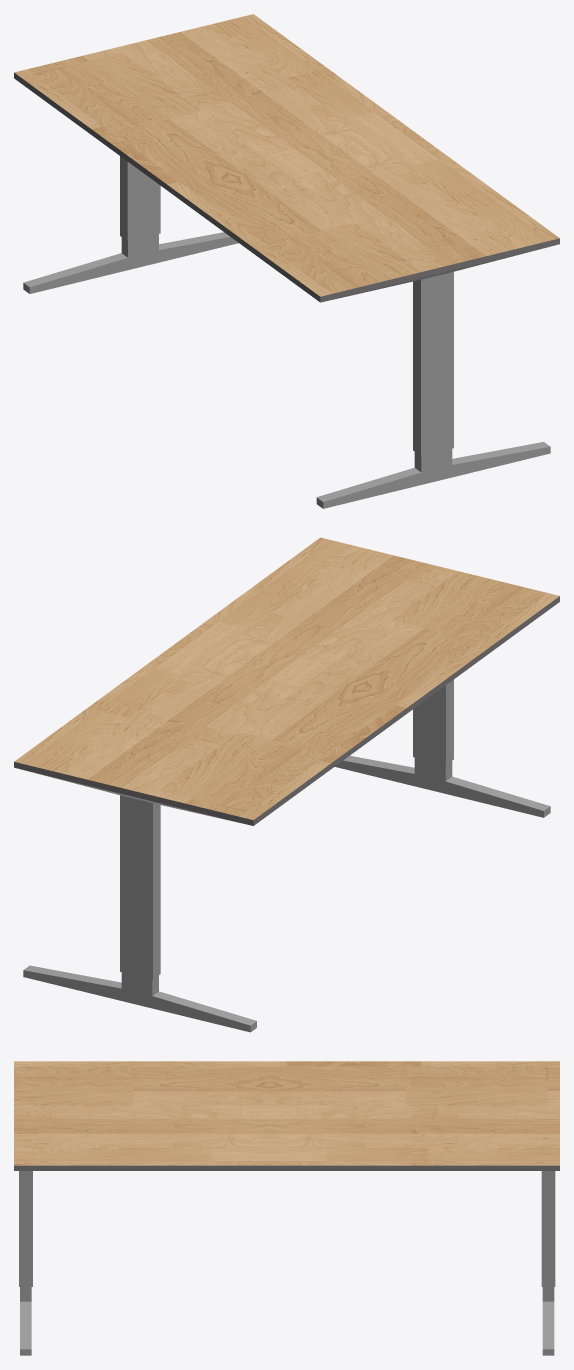
Rendered from Buro_3DWereld_Ready.fbx.
3 renders of one model, top to bottom at view 1: azimuth 30°, elevation 25°; view 2: azimuth 150°, elevation 25°; view 3: azimuth 270°, elevation 25°, orthographic. The views are drawn at different scales.
Parts seen in each view (by area): view 1: pCube1; view 2: pCube1; view 3: pCube1.
Boxes of the visible parts, x1,y1,x2,y2 form: pCube1: [14, 14, 559, 508]; pCube1: [14, 537, 559, 1032]; pCube1: [14, 1061, 559, 1355].
Size of the model in its own units: 2.72 by 2.35 by 6.03.
Materials: 4 (1 with a texture image).
